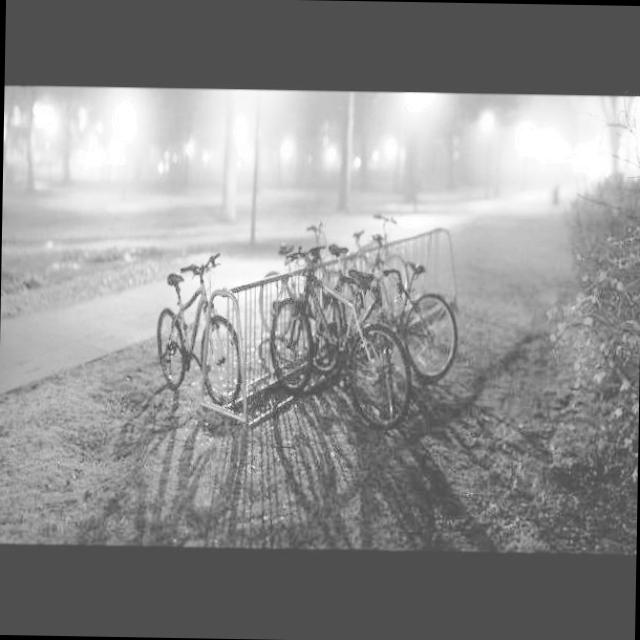Bicycle: (262, 231, 355, 470), (154, 250, 253, 434), (322, 228, 395, 441)
